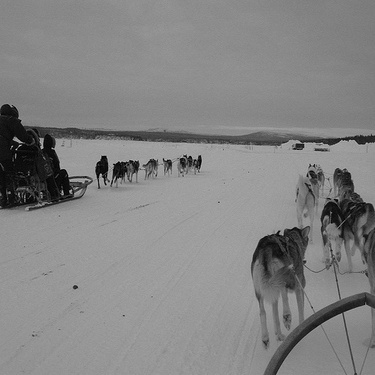dog: (247, 221, 315, 345), (331, 188, 372, 278), (313, 199, 346, 274), (281, 177, 320, 227), (332, 164, 353, 201), (90, 150, 110, 187), (120, 156, 139, 183), (338, 174, 355, 202), (297, 158, 315, 183), (111, 155, 125, 185), (173, 152, 193, 172), (159, 153, 174, 178), (168, 154, 186, 174), (314, 163, 325, 194), (142, 161, 159, 181), (185, 152, 203, 170)
